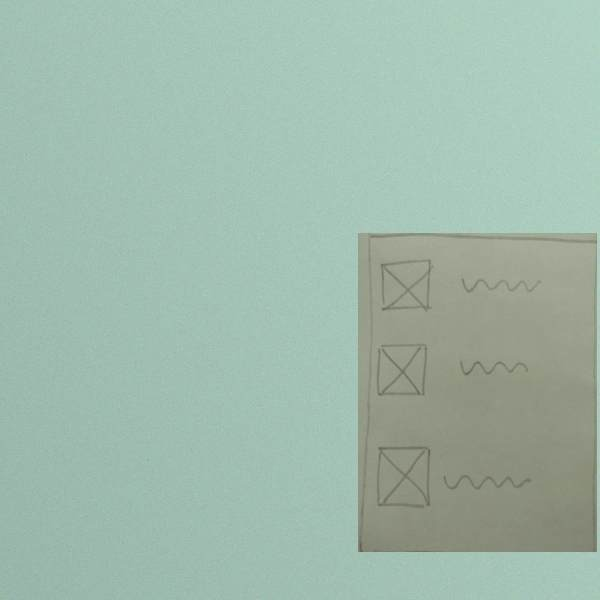image: (373, 443, 434, 509), (372, 342, 430, 399), (377, 257, 434, 314)
text: (443, 468, 534, 495), (456, 273, 546, 299), (451, 352, 541, 378)
